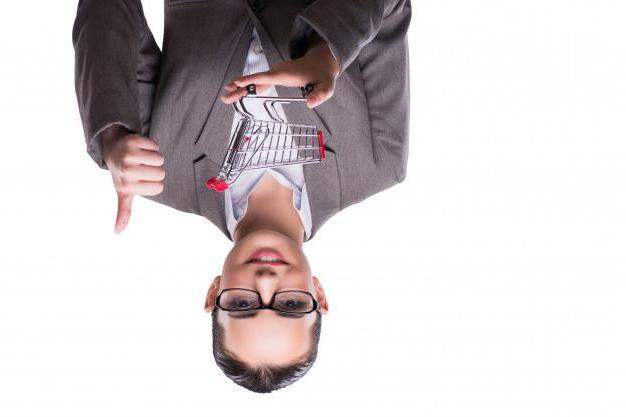thumbsdown: (112, 133, 166, 235)
